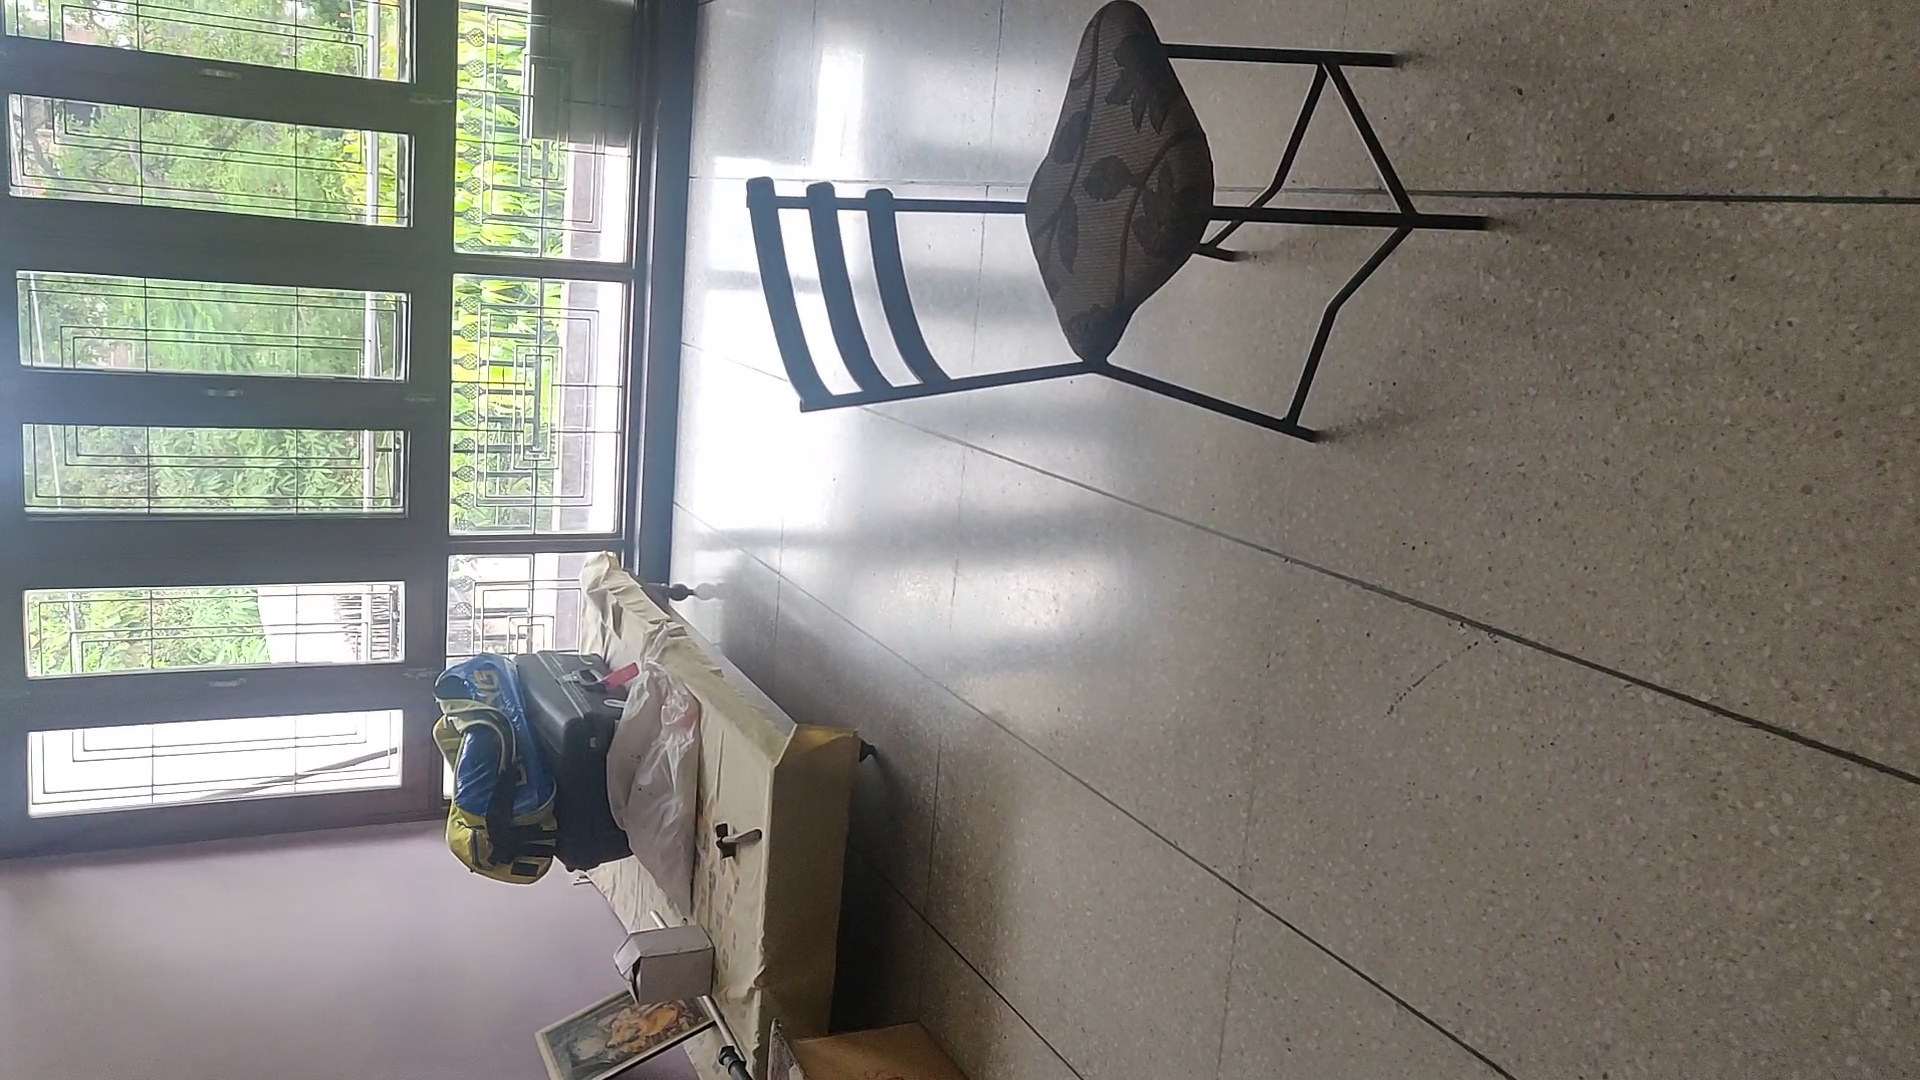hammer: (713, 819, 764, 862)
